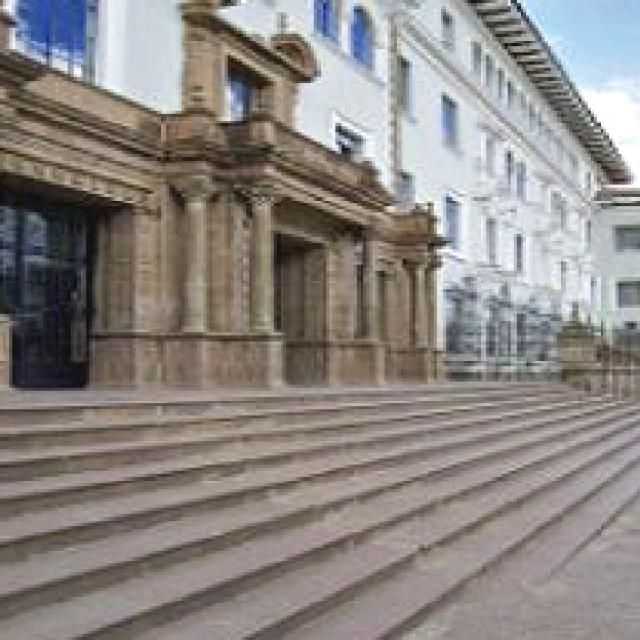upstair: (41, 385, 481, 640)
